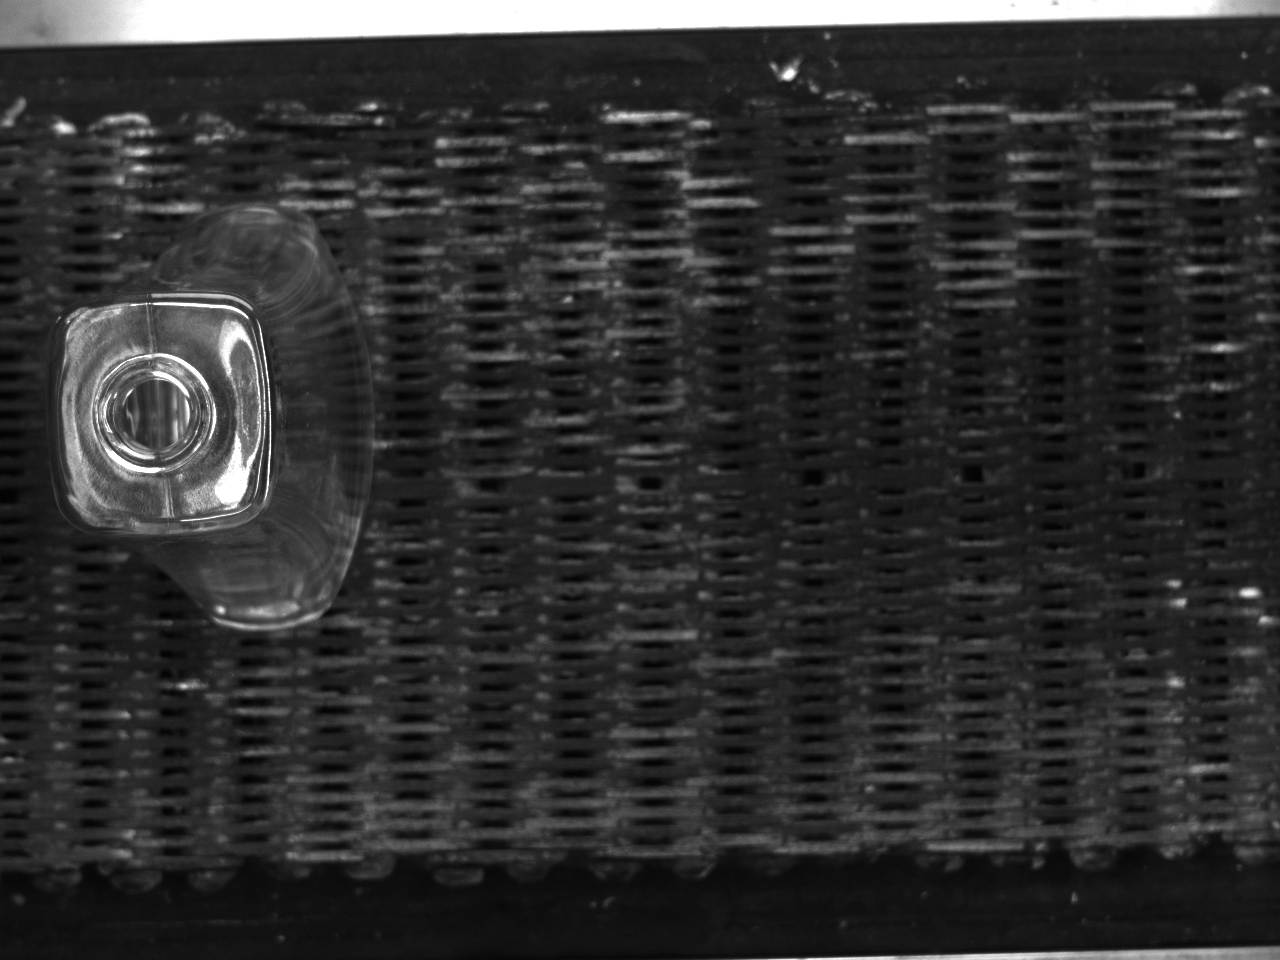bottleneck: (94, 354, 218, 475)
